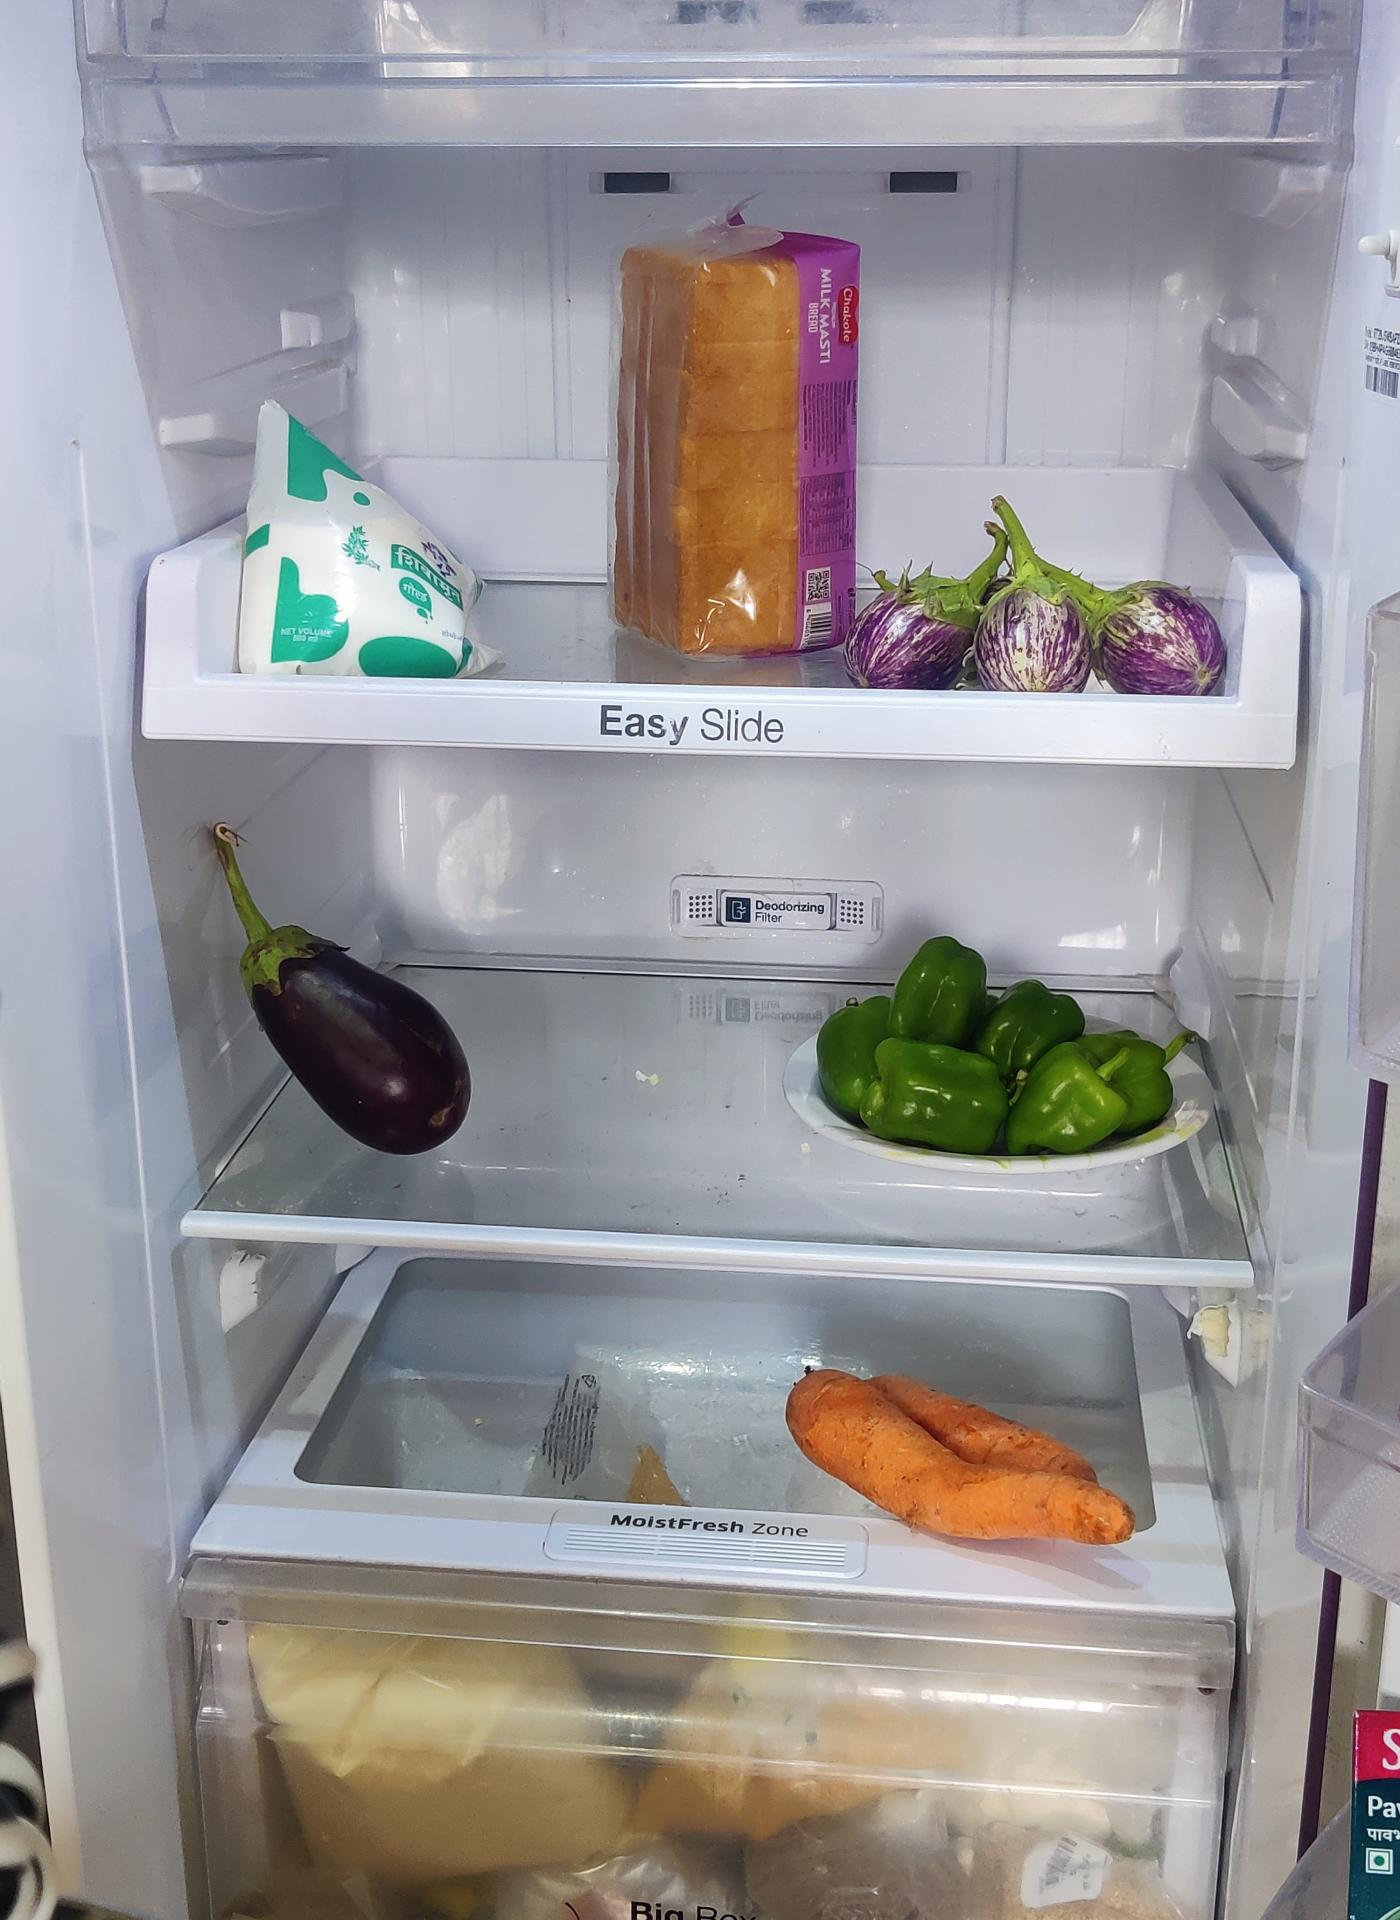bread: (602, 215, 871, 659)
brinjal: (237, 882, 465, 1157), (860, 543, 1232, 702)
capsicum: (810, 935, 1191, 1160)
carrots: (786, 1364, 1142, 1553)
milk: (234, 394, 488, 672)
